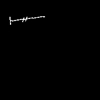treble_crochet: (10, 17, 38, 23)
